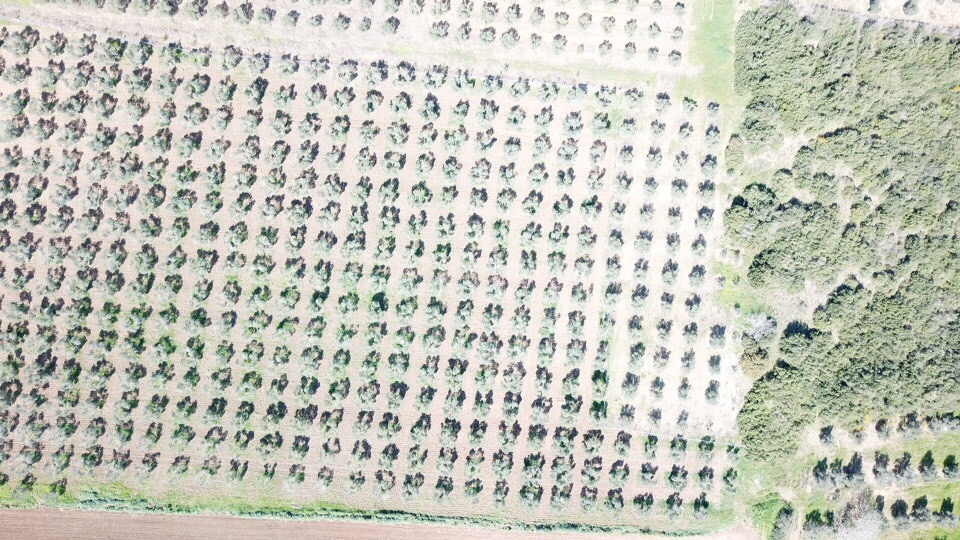oliveTree: (6, 234, 43, 265), (4, 27, 39, 55), (63, 298, 93, 330), (47, 176, 80, 205), (24, 357, 56, 386), (87, 124, 118, 153), (53, 149, 84, 178), (71, 210, 102, 239), (26, 117, 58, 145), (15, 203, 48, 230), (71, 240, 104, 267), (154, 274, 183, 304), (363, 291, 390, 323), (23, 147, 53, 175), (189, 249, 219, 277), (1, 59, 32, 86), (44, 207, 75, 234), (30, 298, 61, 325), (84, 361, 116, 387), (20, 173, 49, 201), (69, 267, 98, 295), (97, 270, 126, 298), (88, 331, 116, 360), (149, 361, 177, 390), (47, 444, 75, 473), (38, 32, 68, 59), (286, 195, 313, 225), (100, 212, 130, 239), (111, 391, 141, 418), (114, 125, 145, 151), (442, 358, 468, 389), (502, 361, 527, 393), (66, 62, 94, 90), (35, 62, 63, 90), (258, 194, 286, 222), (45, 236, 73, 264), (235, 372, 263, 400), (173, 132, 202, 159), (1, 113, 28, 142), (119, 333, 146, 362), (56, 332, 85, 359), (549, 427, 578, 454), (169, 189, 199, 215), (475, 359, 501, 389), (117, 363, 147, 389), (294, 377, 320, 407), (493, 422, 523, 448), (59, 93, 91, 117), (146, 129, 174, 156), (230, 163, 257, 191), (228, 192, 255, 220), (113, 181, 141, 208), (29, 326, 56, 354), (244, 285, 273, 311), (1, 296, 30, 322), (140, 184, 167, 211), (183, 308, 210, 335), (87, 155, 115, 181), (132, 217, 160, 243), (310, 230, 338, 256), (247, 309, 275, 335), (96, 302, 122, 330), (204, 367, 232, 393), (341, 232, 366, 261), (127, 274, 156, 299), (130, 35, 154, 65), (93, 93, 120, 119), (116, 153, 143, 179), (407, 180, 434, 206), (163, 217, 190, 243), (134, 244, 160, 271), (40, 265, 67, 291), (304, 288, 330, 315), (334, 291, 361, 317), (421, 326, 447, 353), (298, 345, 324, 372), (1, 324, 27, 351), (411, 386, 438, 412), (550, 455, 577, 481), (2, 90, 30, 115), (223, 221, 248, 249), (186, 279, 214, 304), (395, 296, 420, 324), (450, 326, 475, 354), (273, 316, 301, 341), (55, 359, 83, 384), (441, 389, 466, 417), (289, 407, 317, 432), (168, 425, 196, 450), (270, 109, 294, 138), (359, 349, 383, 378), (327, 377, 351, 406), (5, 267, 36, 289), (61, 118, 87, 144), (275, 284, 301, 310), (135, 451, 161, 477), (18, 439, 44, 465), (153, 72, 180, 97), (297, 112, 322, 139), (171, 161, 198, 186), (199, 191, 224, 218), (537, 306, 562, 333), (377, 414, 402, 441), (347, 439, 372, 466), (318, 409, 345, 434), (256, 431, 283, 456), (245, 77, 269, 105), (105, 240, 129, 268), (423, 298, 447, 326), (559, 398, 583, 426), (581, 455, 604, 484), (101, 37, 127, 62), (423, 65, 449, 90), (184, 74, 210, 99), (202, 161, 227, 187), (294, 167, 319, 193), (322, 173, 347, 199), (217, 280, 242, 306), (478, 332, 503, 358), (333, 320, 359, 345), (214, 310, 239, 336), (154, 306, 180, 331), (26, 411, 51, 437), (340, 261, 364, 288), (328, 349, 352, 376), (241, 339, 265, 366), (22, 383, 49, 407), (284, 226, 307, 254), (530, 396, 553, 424), (409, 415, 432, 443), (386, 382, 408, 411), (72, 33, 97, 58), (125, 68, 150, 93), (126, 95, 151, 120), (444, 125, 469, 150), (266, 141, 291, 166), (351, 409, 376, 434), (33, 92, 59, 116), (184, 102, 210, 126), (211, 104, 235, 130), (387, 119, 411, 145), (350, 176, 374, 202), (193, 222, 219, 246), (164, 246, 188, 272), (392, 326, 416, 352), (126, 305, 152, 329), (522, 453, 546, 479), (401, 473, 425, 499), (204, 397, 228, 423), (417, 94, 440, 121), (377, 177, 400, 204), (151, 336, 178, 359), (472, 391, 495, 418), (551, 483, 574, 510), (463, 448, 486, 475), (297, 140, 319, 168), (418, 356, 440, 384), (360, 90, 385, 114), (273, 83, 298, 107), (214, 77, 238, 102), (206, 136, 231, 160), (1, 145, 25, 170), (262, 167, 287, 191), (84, 183, 109, 207), (400, 240, 425, 264), (311, 261, 335, 286), (252, 254, 276, 279), (507, 333, 531, 358), (357, 380, 381, 405), (330, 87, 356, 110), (97, 66, 123, 89), (241, 107, 264, 133), (416, 122, 439, 148), (531, 133, 554, 159), (373, 236, 396, 262), (213, 340, 236, 366), (406, 445, 429, 471), (156, 99, 178, 126), (522, 189, 544, 216), (432, 475, 454, 502), (436, 447, 458, 474), (357, 120, 381, 144), (145, 158, 169, 182), (387, 351, 411, 375), (176, 368, 200, 392), (143, 396, 167, 420), (81, 444, 105, 468), (57, 385, 81, 409), (366, 60, 389, 85), (389, 91, 412, 116), (328, 114, 351, 139), (474, 127, 497, 152), (237, 136, 260, 161), (520, 221, 543, 246), (254, 228, 279, 251), (564, 310, 587, 335), (364, 323, 389, 346), (620, 373, 643, 398), (521, 483, 544, 508), (438, 421, 461, 446), (173, 397, 198, 420), (495, 187, 517, 213), (266, 376, 288, 402), (289, 434, 311, 460), (262, 405, 288, 427), (590, 369, 609, 399), (490, 478, 509, 508), (465, 213, 486, 240), (536, 338, 557, 365), (501, 394, 522, 421), (668, 464, 689, 491), (160, 42, 183, 66), (325, 145, 348, 169), (580, 195, 603, 219), (486, 244, 509, 268), (485, 275, 508, 299), (305, 316, 328, 340), (226, 459, 250, 482), (203, 427, 227, 450), (108, 450, 132, 473), (56, 413, 80, 436), (320, 200, 342, 225), (510, 306, 532, 331), (112, 418, 134, 443), (84, 388, 109, 410), (379, 206, 400, 232), (436, 213, 456, 240), (561, 368, 580, 396), (1, 409, 20, 437), (304, 83, 327, 106), (1, 357, 24, 380), (563, 110, 585, 134), (557, 137, 579, 161), (527, 163, 549, 187), (460, 242, 482, 266), (480, 305, 504, 327), (533, 367, 555, 391), (583, 429, 605, 453), (525, 426, 547, 450), (492, 450, 514, 474), (466, 420, 488, 444), (375, 470, 397, 494), (232, 401, 254, 425), (166, 455, 190, 477), (137, 426, 161, 448), (85, 417, 107, 441), (222, 45, 243, 70), (646, 377, 667, 402), (616, 404, 636, 430), (232, 2, 255, 24), (248, 52, 271, 74), (453, 68, 475, 91), (537, 80, 560, 102), (355, 148, 377, 171), (573, 254, 595, 277), (224, 252, 247, 274), (198, 457, 221, 479), (1, 381, 23, 404), (188, 47, 212, 68), (603, 284, 624, 308), (566, 340, 587, 364), (185, 336, 206, 360), (378, 444, 399, 468), (577, 225, 597, 250), (464, 477, 483, 503), (409, 210, 427, 237), (308, 57, 330, 79), (477, 99, 499, 121), (613, 171, 635, 193), (514, 279, 536, 301), (257, 462, 279, 484), (501, 27, 522, 50), (427, 20, 450, 41), (338, 60, 359, 83), (471, 158, 492, 181), (442, 156, 463, 179), (552, 194, 573, 217), (694, 207, 715, 230), (546, 251, 567, 274), (459, 271, 480, 294), (400, 270, 423, 291), (285, 257, 306, 280), (549, 223, 569, 247), (588, 402, 608, 426), (605, 487, 625, 511), (660, 259, 679, 284), (630, 286, 649, 311), (613, 431, 632, 456), (628, 343, 646, 369), (691, 494, 709, 520), (666, 492, 684, 518), (330, 11, 352, 32), (280, 53, 301, 75), (596, 85, 617, 107), (555, 167, 576, 189), (370, 265, 392, 286), (609, 461, 630, 483), (697, 180, 717, 203), (384, 151, 407, 171), (633, 231, 653, 254), (349, 203, 369, 226), (431, 243, 451, 266), (634, 493, 654, 516), (639, 463, 659, 486), (397, 60, 416, 84), (587, 166, 606, 190), (455, 299, 474, 323), (603, 253, 621, 278), (468, 187, 489, 208), (430, 270, 451, 291), (231, 429, 252, 450), (378, 16, 400, 36), (416, 153, 436, 175), (570, 283, 590, 305), (544, 279, 564, 301), (315, 467, 335, 489), (287, 464, 306, 487), (589, 139, 607, 163), (581, 486, 599, 510), (1, 173, 18, 198), (656, 319, 673, 344), (647, 406, 664, 431), (186, 1, 207, 21), (510, 77, 531, 97), (534, 106, 554, 127), (625, 315, 645, 336), (17, 473, 37, 494), (518, 250, 537, 272), (597, 312, 616, 334), (646, 146, 662, 172), (698, 436, 714, 462), (481, 1, 499, 24), (493, 219, 511, 242), (690, 235, 707, 259), (721, 468, 738, 492), (158, 1, 183, 17), (593, 341, 609, 366), (321, 437, 341, 457), (482, 75, 503, 94), (567, 83, 588, 102), (507, 105, 526, 126), (631, 260, 650, 281), (653, 348, 672, 369), (255, 7, 277, 25), (689, 264, 707, 286), (704, 126, 721, 149), (677, 378, 694, 401), (348, 469, 365, 492), (666, 234, 682, 258), (624, 88, 644, 107), (503, 137, 523, 156), (499, 162, 518, 182), (452, 100, 470, 121), (609, 201, 627, 222), (685, 295, 703, 316), (670, 438, 688, 459), (1, 198, 16, 223), (643, 436, 658, 461), (701, 154, 718, 176), (658, 292, 675, 314), (710, 327, 726, 350), (705, 381, 721, 404), (593, 112, 611, 132), (671, 178, 689, 198), (638, 203, 656, 223), (455, 21, 472, 42), (430, 1, 451, 18), (655, 94, 672, 115), (672, 151, 689, 172), (666, 206, 683, 227), (682, 323, 699, 344), (618, 145, 634, 167), (441, 185, 459, 204), (273, 346, 291, 365), (699, 467, 715, 488), (680, 351, 695, 373), (456, 1, 474, 19), (643, 177, 660, 196), (505, 4, 521, 24), (552, 34, 567, 55), (609, 230, 624, 251), (1, 438, 14, 462), (479, 27, 497, 44), (682, 97, 699, 115), (600, 16, 616, 35), (678, 123, 694, 142), (676, 411, 689, 434), (283, 10, 300, 27), (621, 118, 638, 135), (50, 478, 67, 495), (554, 12, 570, 30), (598, 40, 614, 58), (214, 1, 230, 19), (578, 12, 593, 31), (623, 18, 637, 38), (650, 120, 667, 136), (139, 1, 157, 16), (647, 22, 661, 41), (531, 7, 545, 26), (708, 355, 722, 374), (409, 1, 426, 16), (668, 50, 682, 68), (624, 42, 638, 60), (726, 444, 739, 463), (357, 16, 372, 32), (529, 32, 543, 49), (306, 14, 324, 27), (383, 1, 402, 13), (113, 1, 132, 13), (707, 101, 720, 117), (649, 1, 663, 15), (673, 1, 685, 17), (648, 46, 659, 63), (671, 26, 683, 41), (604, 1, 619, 11), (360, 1, 375, 11), (627, 1, 639, 13), (576, 44, 585, 55)
